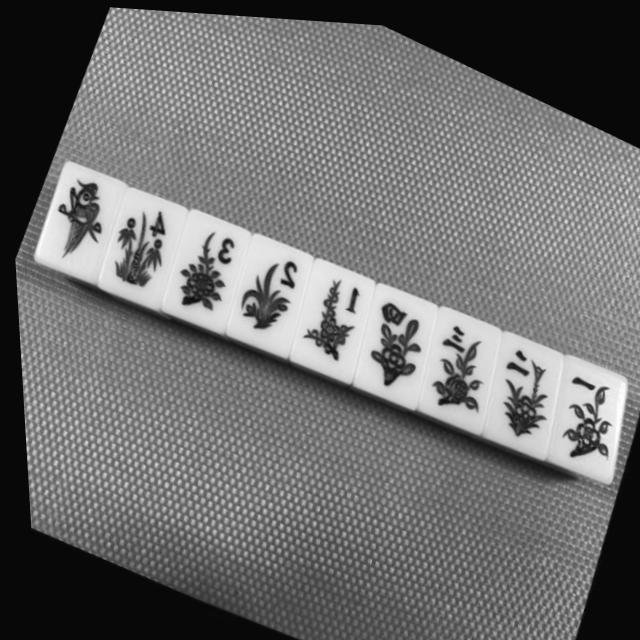bf1: (284, 257, 374, 385)
bf2: (220, 232, 313, 360)
bf3: (156, 208, 251, 334)
bf4: (93, 185, 188, 312)
bs1: (541, 352, 625, 484)
bs2: (477, 329, 562, 459)
bs3: (412, 304, 499, 435)
bs4: (347, 280, 436, 411)
sb1: (31, 161, 126, 286)
